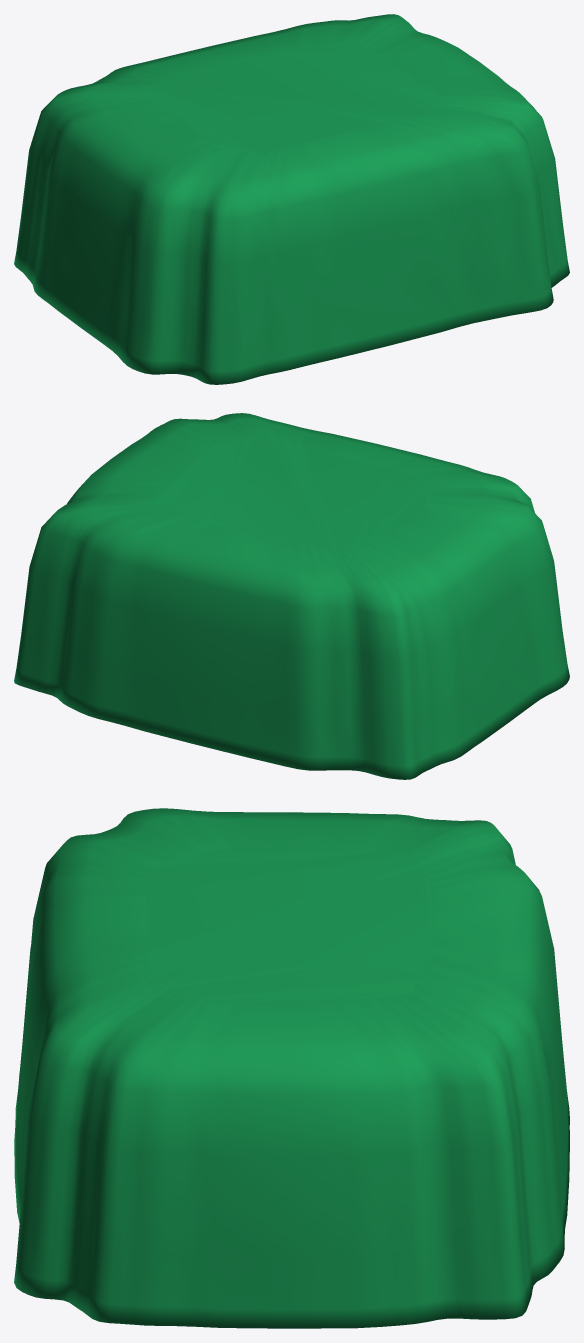
Rendered from jelly-terrace.glb.
The picture shows the model from 3 angles, top to bottom: view 1: azimuth 30°, elevation 25°; view 2: azimuth 150°, elevation 25°; view 3: azimuth 270°, elevation 25°; orthographic projection. The views are drawn at different scales.
Parts seen in each view (by area): view 1: Emerald moulded jelly; view 2: Emerald moulded jelly; view 3: Emerald moulded jelly.
Part boxes in pixels (x1,y1,x2,y2): Emerald moulded jelly: [14, 14, 569, 384]; Emerald moulded jelly: [14, 413, 569, 779]; Emerald moulded jelly: [14, 808, 569, 1328].
Bounding box in the file's own units: 12.21 × 4.95 × 9.49.
